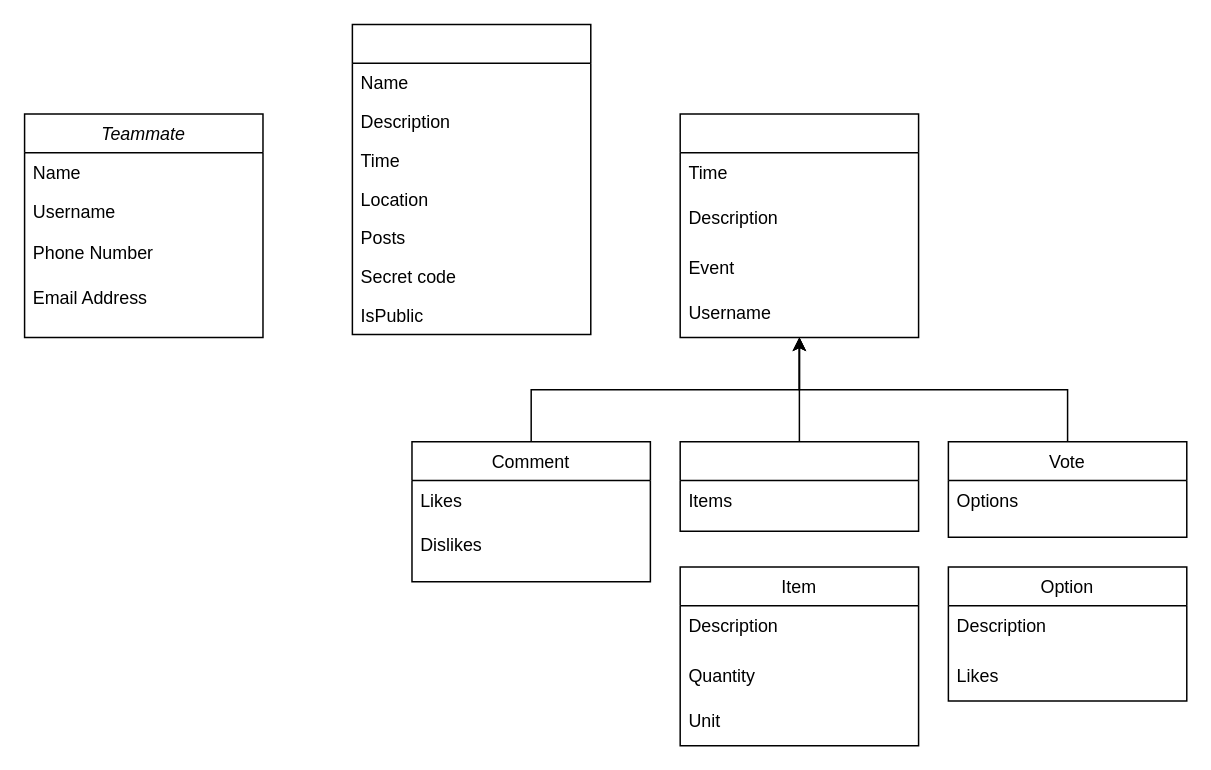
This 1211x770 diagram has some shape labels left out. The box of each missing label's shape, as (x1, y1, x2, y2) in pixels:
Post: (679, 112, 919, 337)
TeamEvent: (351, 23, 591, 335)
Todo-list: (679, 440, 919, 531)
